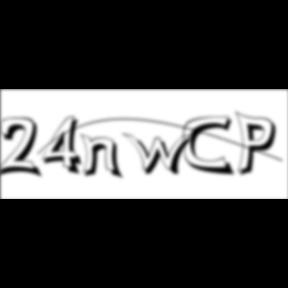2: (0, 117, 46, 181)
4: (42, 115, 88, 179)
C: (183, 115, 238, 178)
P: (236, 110, 282, 180)
n: (80, 132, 128, 181)
w: (122, 132, 200, 178)
